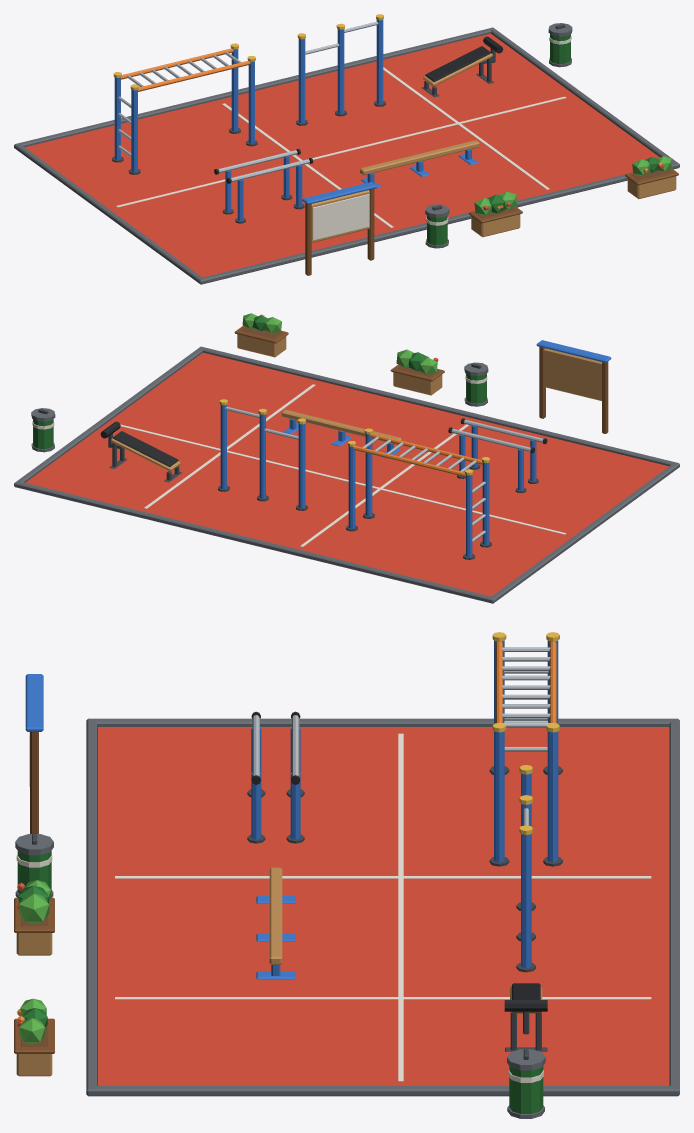
The model's file is outdoor-fitness-park.glb.
3 views of the same model, one above another, from view 1: azimuth 30°, elevation 25°; view 2: azimuth 150°, elevation 25°; view 3: azimuth 270°, elevation 25° (orthographic). The views are drawn at different scales.
Visible parts, largest first — view 1: FitnessMat, MonkeyBars, SignBoard, PullUpBars, ParallelBars, Planter_A, Planter_B, SitUpBench, BalanceBeam, Bin_A, Bin_B; view 2: FitnessMat, MonkeyBars, SignBoard, PullUpBars, ParallelBars, Planter_A, Planter_B, SitUpBench, BalanceBeam, Bin_A, Bin_B; view 3: FitnessMat, MonkeyBars, ParallelBars, Planter_B, Planter_A, PullUpBars, BalanceBeam, SignBoard, SitUpBench, Bin_B, Bin_A.
Part boxes in pixels (box(x1,y1,x2,y2)): FitnessMat: box(14, 27, 679, 284); MonkeyBars: box(112, 43, 257, 174); SignBoard: box(302, 182, 376, 275); PullUpBars: box(296, 14, 385, 125); ParallelBars: box(214, 149, 313, 223); Planter_A: box(469, 191, 522, 237); Planter_B: box(625, 156, 678, 199); SitUpBench: box(421, 36, 503, 97); BalanceBeam: box(360, 140, 479, 187); Bin_A: box(425, 215, 448, 248); Bin_B: box(549, 34, 571, 67); FitnessMat: box(14, 346, 679, 603); MonkeyBars: box(346, 428, 491, 559); SignBoard: box(536, 340, 611, 433); PullUpBars: box(218, 399, 307, 510); ParallelBars: box(448, 418, 547, 493); Planter_A: box(390, 349, 444, 395); Planter_B: box(234, 313, 288, 357); SitUpBench: box(100, 421, 181, 482); BalanceBeam: box(281, 409, 401, 458); Bin_A: box(464, 373, 487, 406); Bin_B: box(31, 419, 54, 452); FitnessMat: box(86, 718, 679, 1096); MonkeyBars: box(489, 632, 562, 866); ParallelBars: box(247, 711, 304, 843); Planter_B: box(14, 998, 54, 1076); Planter_A: box(14, 880, 54, 955); PullUpBars: box(516, 765, 535, 972); BalanceBeam: box(256, 867, 295, 979); SignBoard: box(25, 674, 43, 833); SitUpBench: box(504, 983, 547, 1051); Bin_B: box(507, 1066, 544, 1118); Bin_A: box(15, 850, 53, 897).
Bounding box in the file's own units: 52.13 × 8.85 × 37.25.
